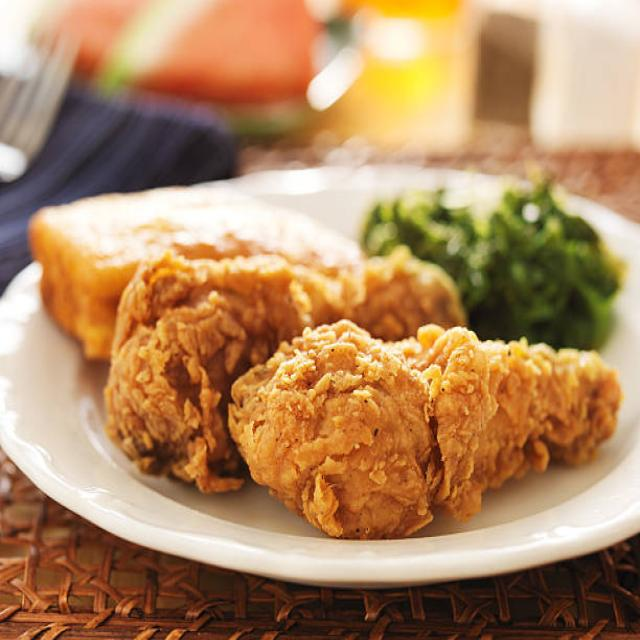Frango: (101, 241, 624, 545)
